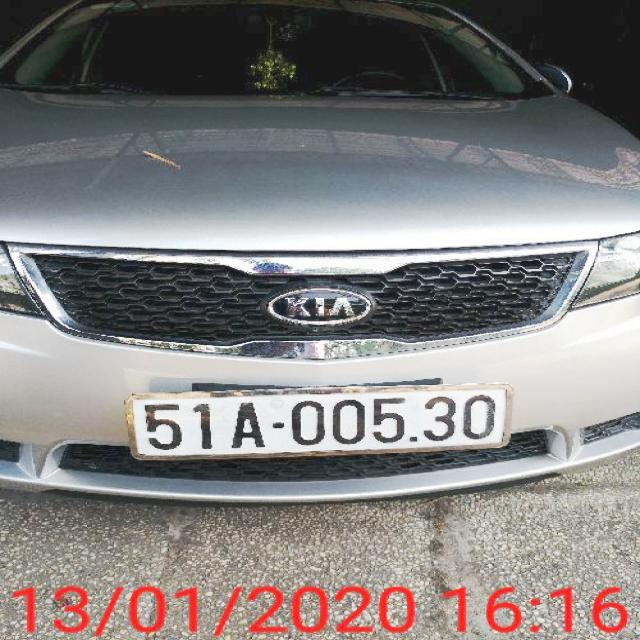license_plate: (132, 388, 516, 460)
